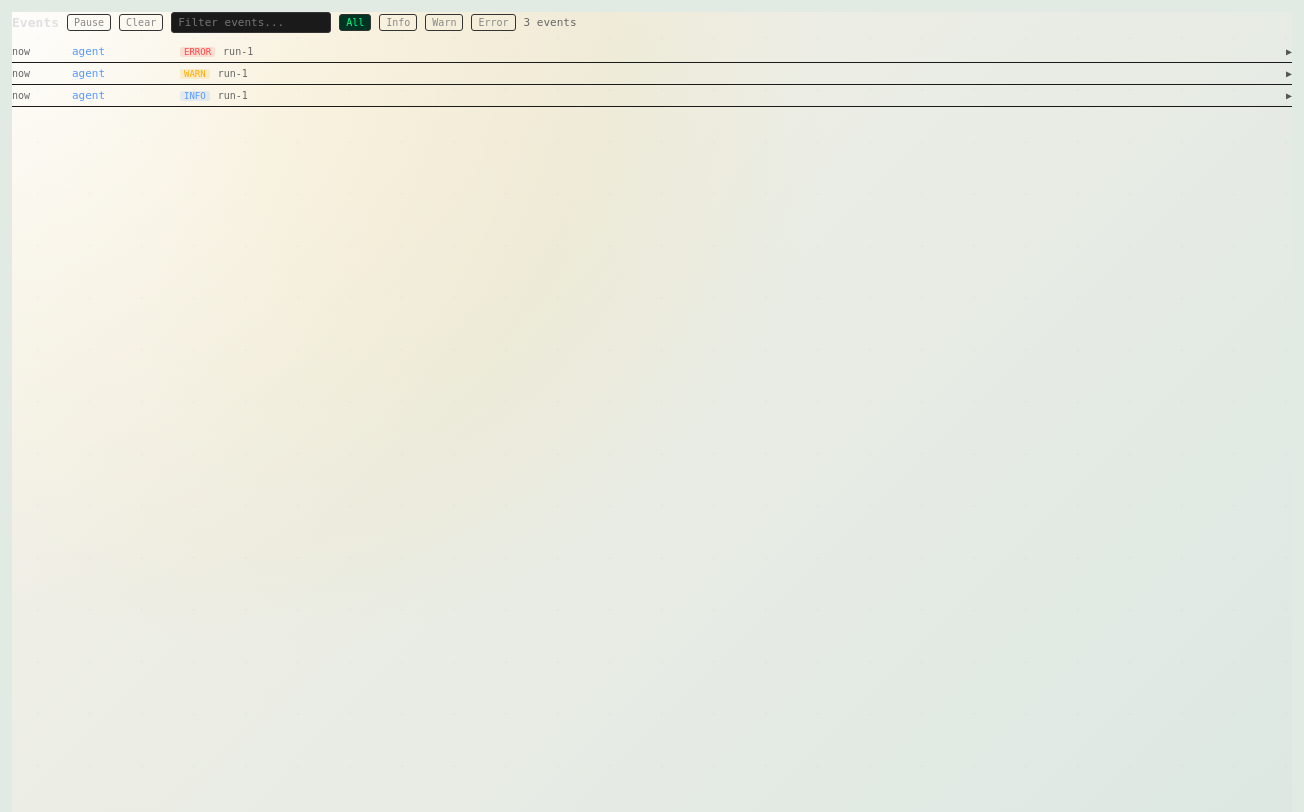
Test: EventFeed › level filter works
# Click "Error" filter
Click the button with test id "level-filter-error". click: (493, 22)
box: [471,14,516,31]
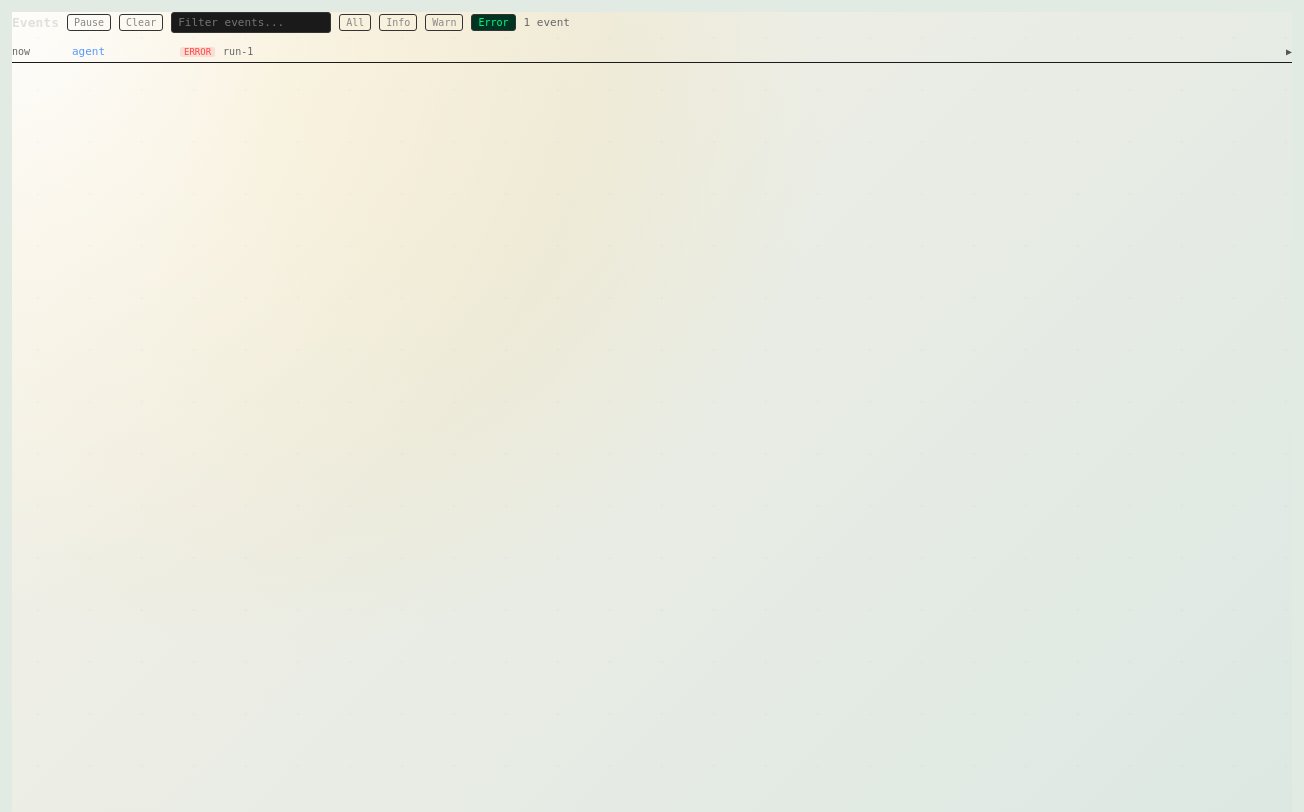
Now the text "1 event" is shown, box [524,16,570,29]
